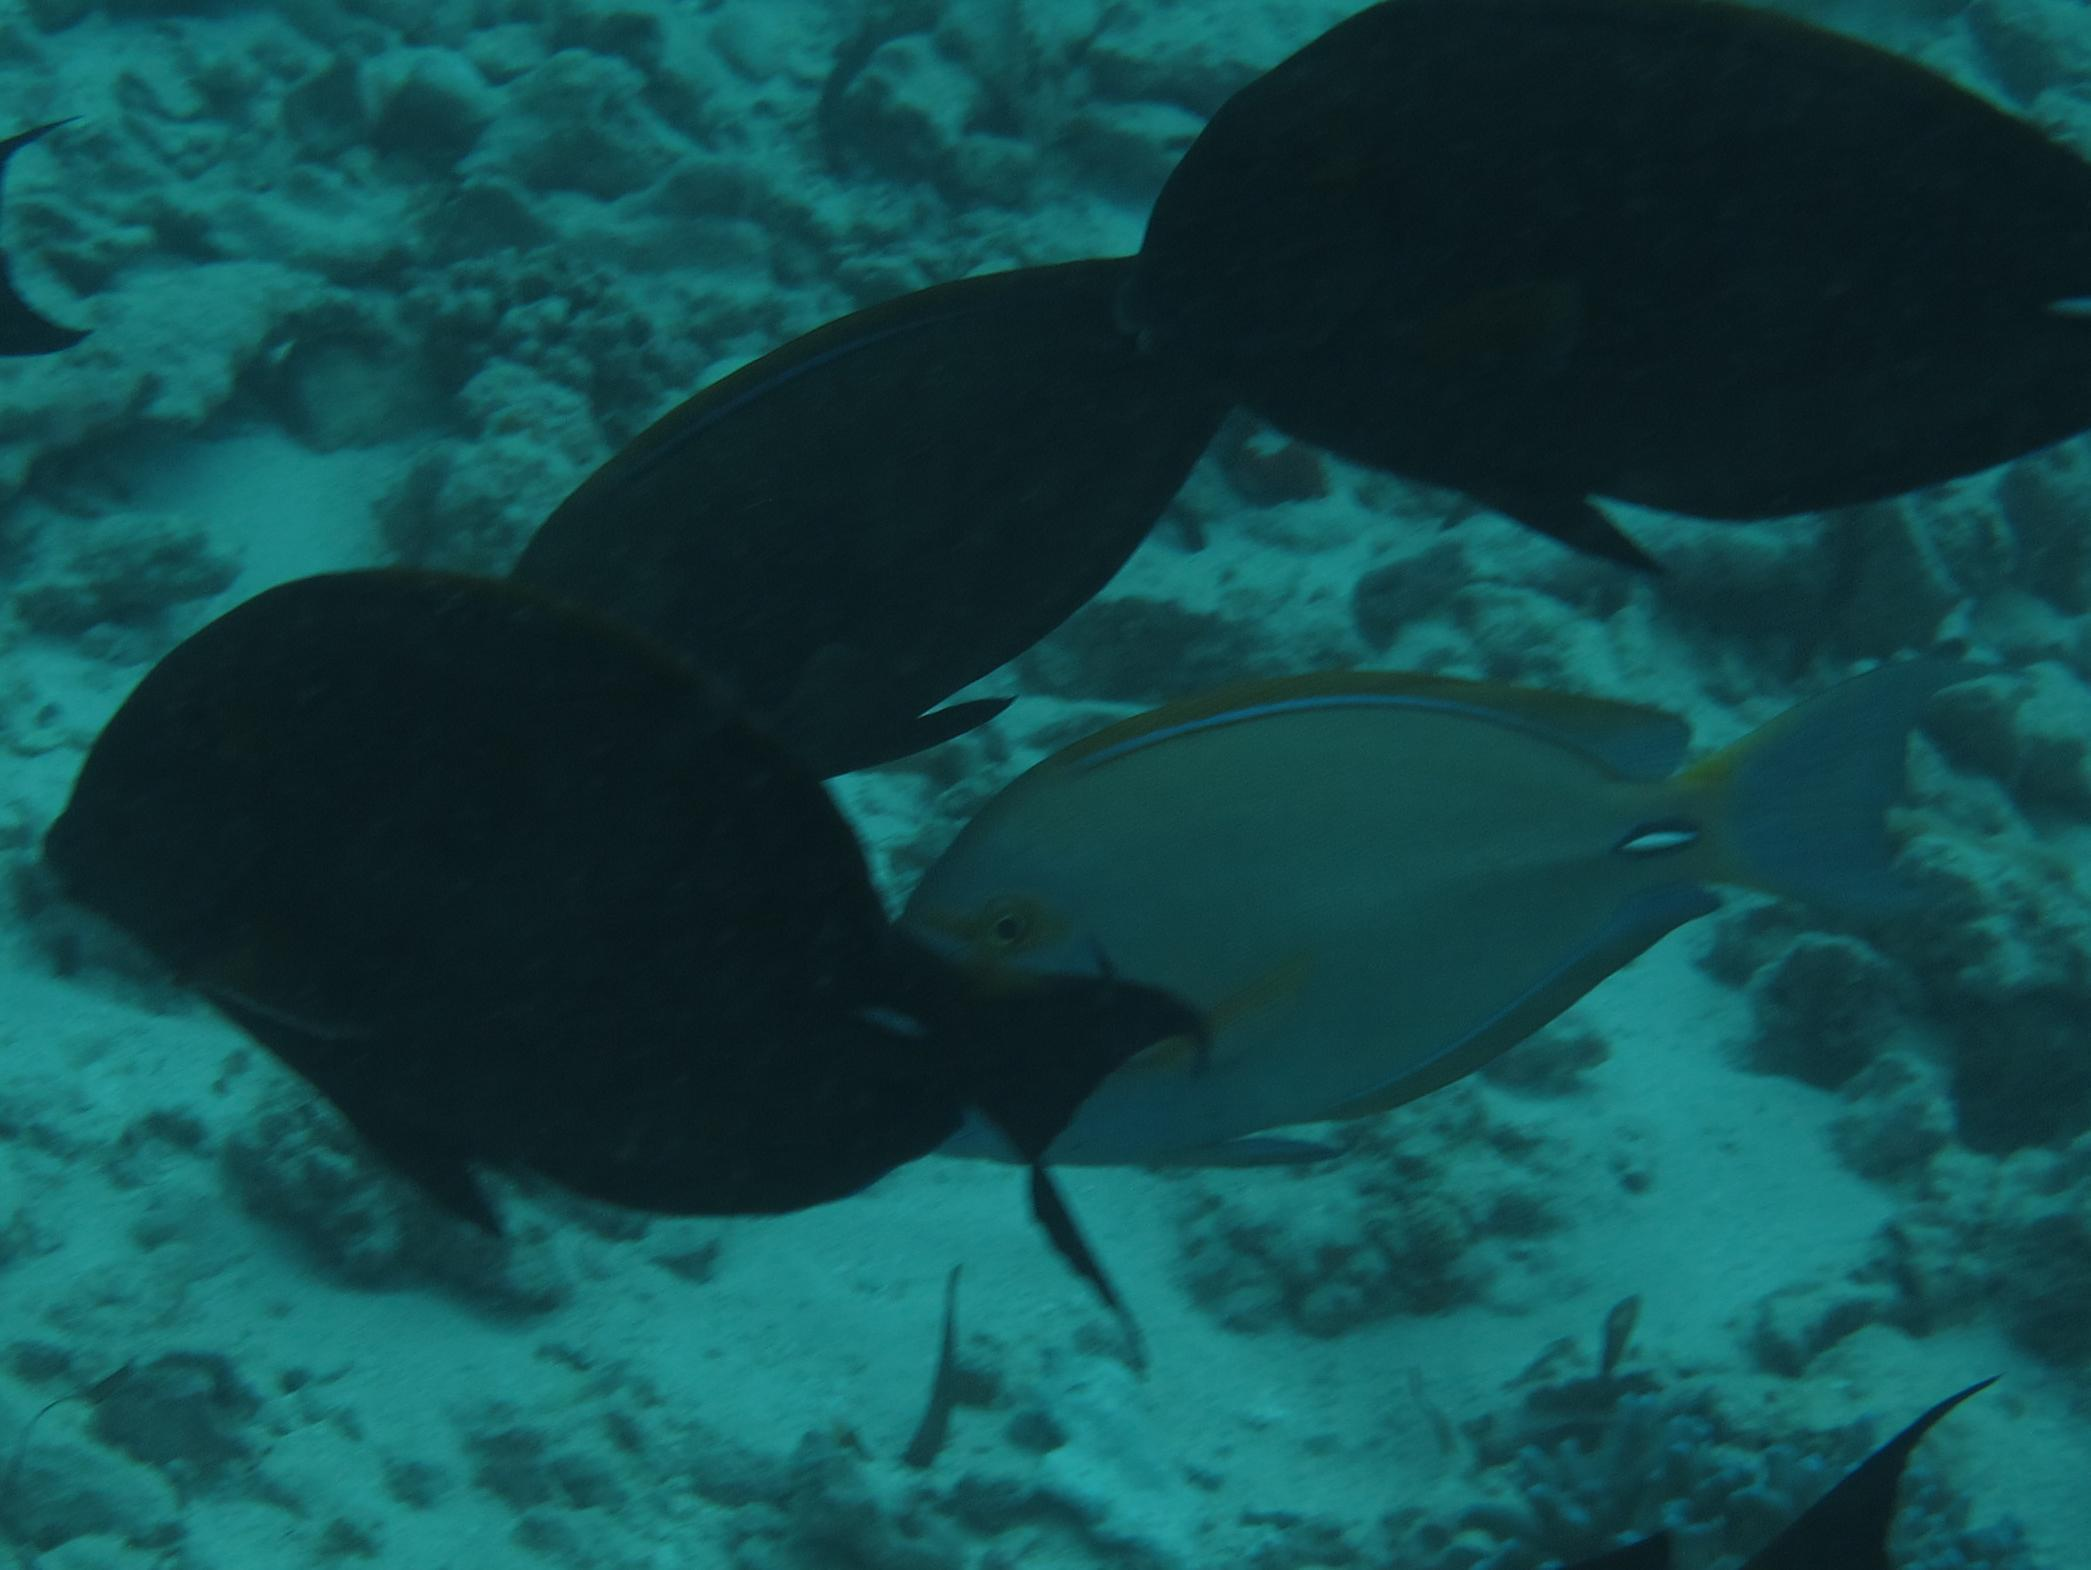Acanthurus dussumieri: (795, 607, 2035, 1263)
